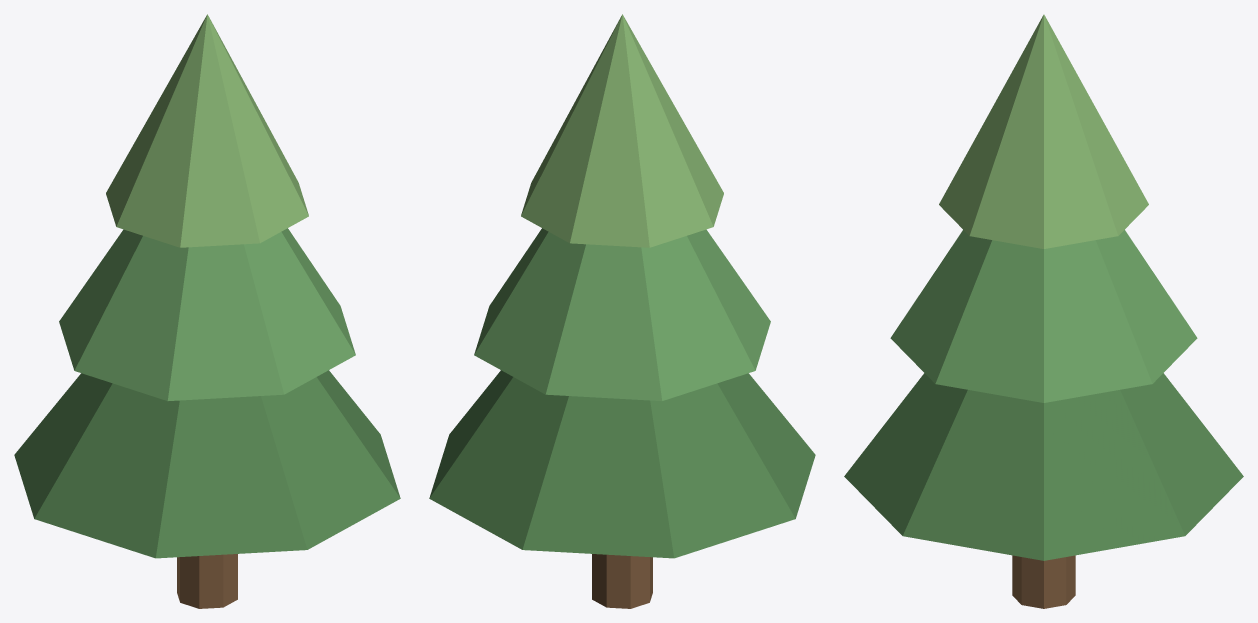
Rendered from tree-pine.glb.
The picture shows the model from 3 angles, left to right: view 1: azimuth 30°, elevation 25°; view 2: azimuth 150°, elevation 25°; view 3: azimuth 270°, elevation 25°; orthographic projection.
Visible parts, largest first — view 1: Foliage, Foliage.001, Foliage.002, Trunk; view 2: Foliage, Foliage.001, Foliage.002, Trunk; view 3: Foliage, Foliage.001, Foliage.002, Trunk.
Boxes of the visible parts, x1=… form: Foliage: x1=14, y1=370, x2=400, y2=558; Foliage.001: x1=59, y1=228, x2=355, y2=400; Foliage.002: x1=106, y1=14, x2=308, y2=247; Trunk: x1=177, y1=554, x2=237, y2=608; Foliage: x1=429, y1=370, x2=815, y2=558; Foliage.001: x1=474, y1=228, x2=770, y2=400; Foliage.002: x1=521, y1=14, x2=723, y2=247; Trunk: x1=592, y1=554, x2=652, y2=608; Foliage: x1=844, y1=373, x2=1243, y2=560; Foliage.001: x1=890, y1=230, x2=1197, y2=402; Foliage.002: x1=939, y1=14, x2=1148, y2=248; Trunk: x1=1012, y1=555, x2=1075, y2=608.
Size of the model in its own units: 1.9 by 3.05 by 1.9.
